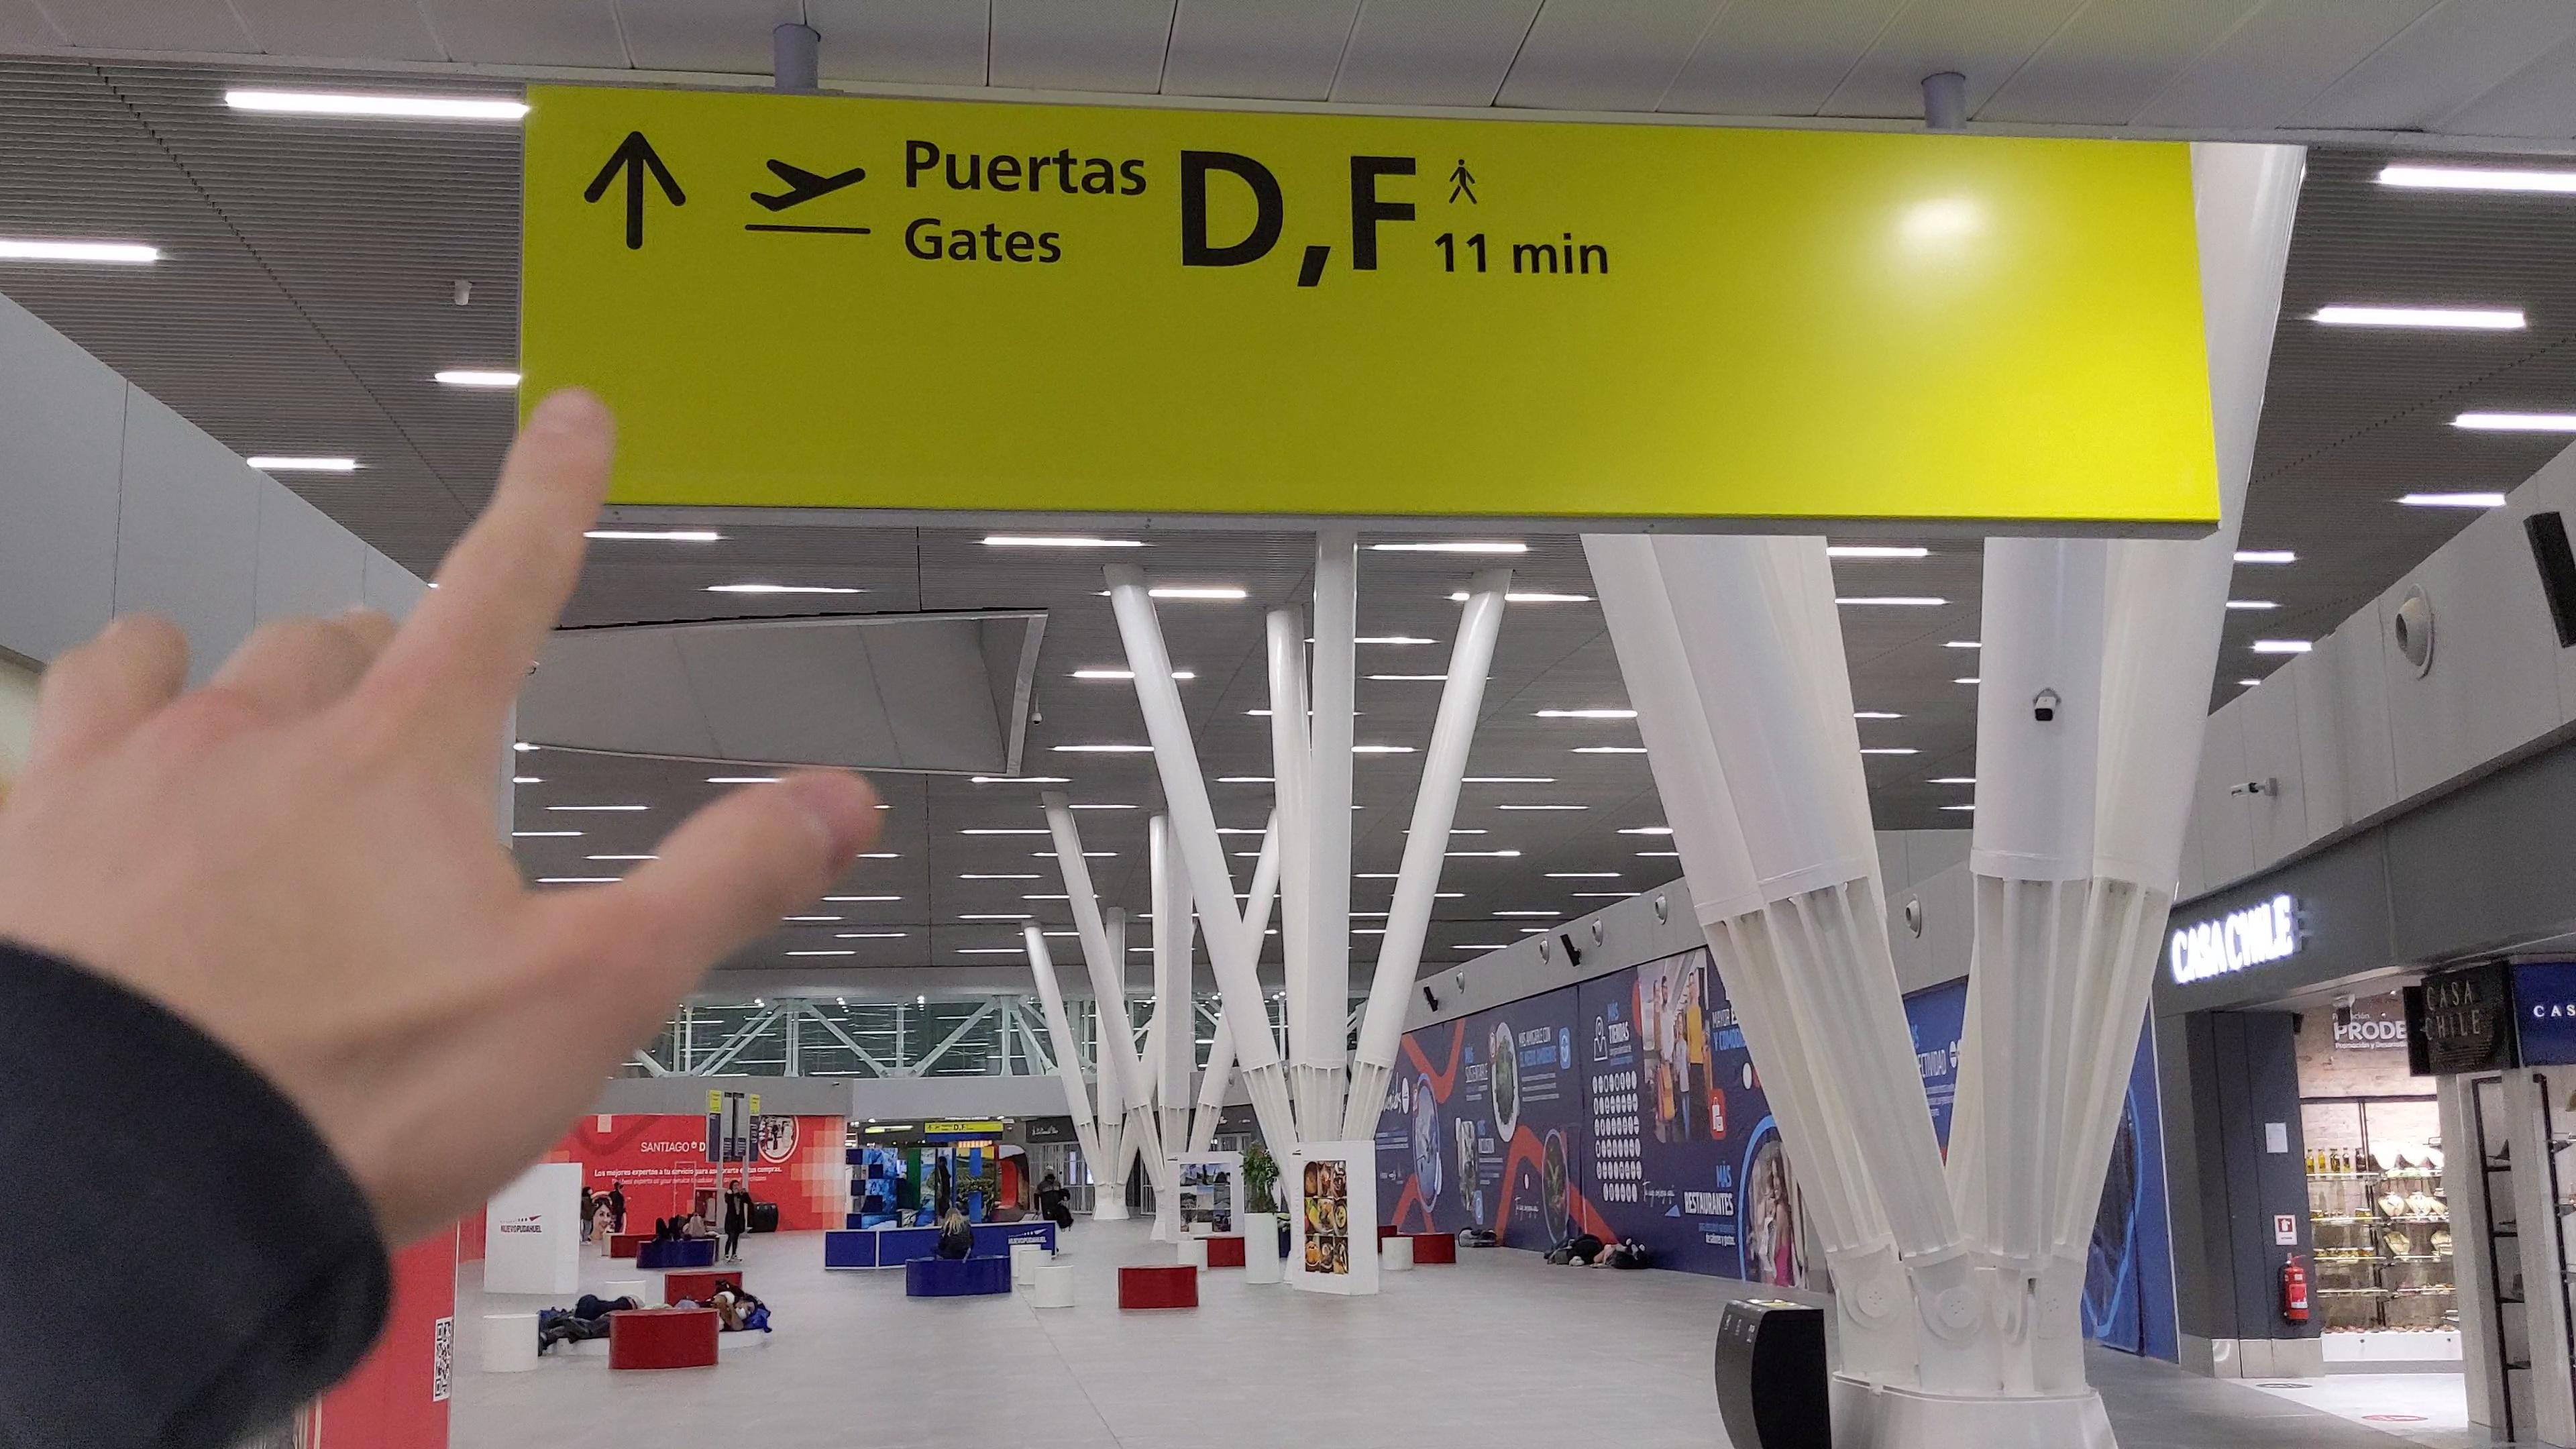airplane symbol: (750, 152, 872, 218)
fire-extinguisher: (2277, 1254, 2316, 1325)
thin up arrow: (575, 126, 695, 262)
